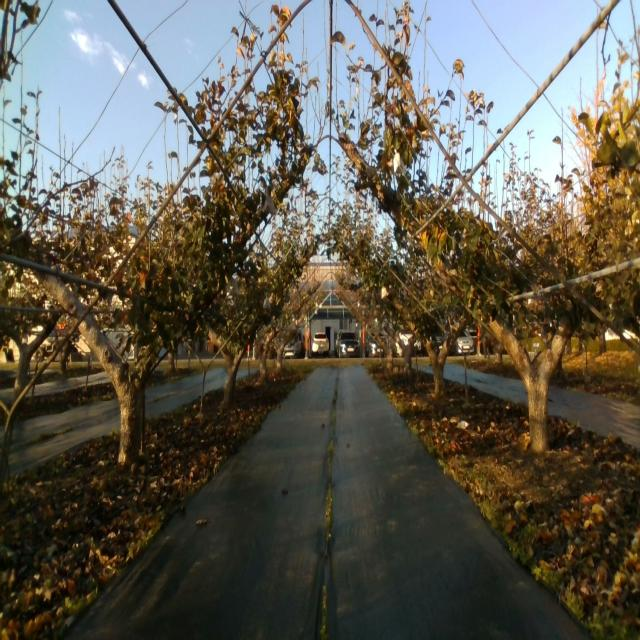pearbags: (393, 149, 405, 174), (227, 278, 238, 294)
